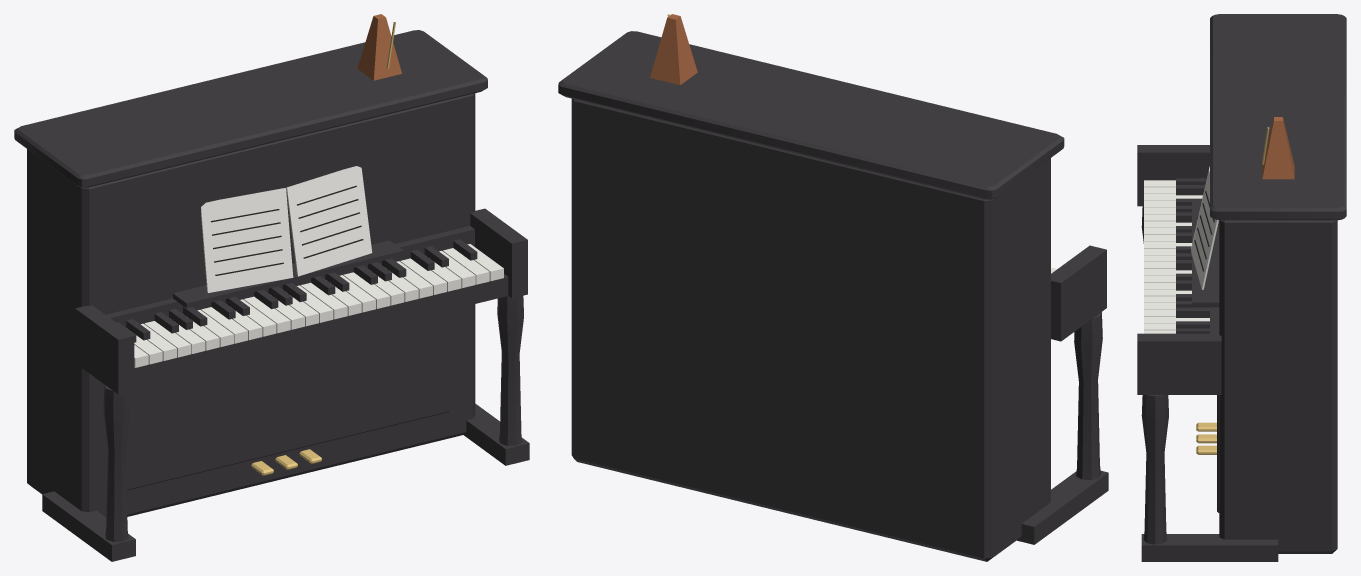
Rendered from furn_piano.glb.
3 views of the same model, side by side, from view 1: azimuth 30°, elevation 25°; view 2: azimuth 150°, elevation 25°; view 3: azimuth 270°, elevation 25° (orthographic). The views are drawn at different scales.
Visible parts, largest first — view 1: furn_piano_body; view 2: furn_piano_body; view 3: furn_piano_body.
Part boxes in pixels (x1,y1,x2,y2): furn_piano_body: (14, 14, 529, 561); furn_piano_body: (558, 14, 1108, 561); furn_piano_body: (1137, 14, 1346, 561).
Size of the model in its own units: 1.04 by 0.98 by 0.46.
